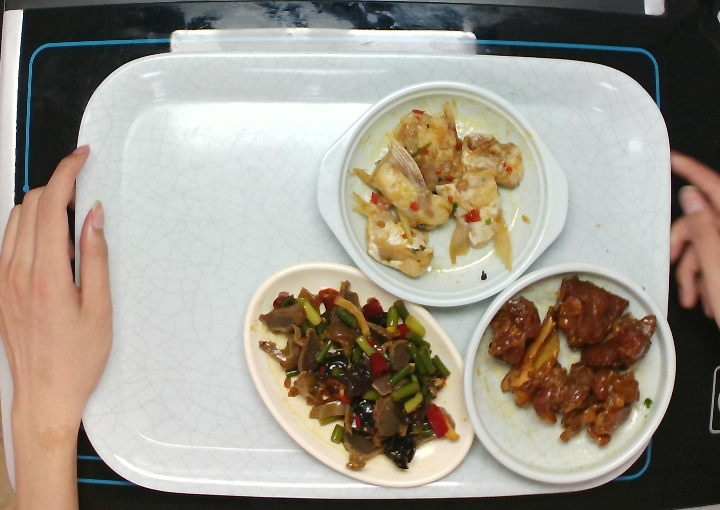JYsf-Shuang_Er_Pan: (315, 80, 569, 307)
JYsf-Tuo_Yuan_Wan: (242, 260, 477, 489)
JYsf-Xiao_Yuan_Pan: (462, 261, 679, 485)
